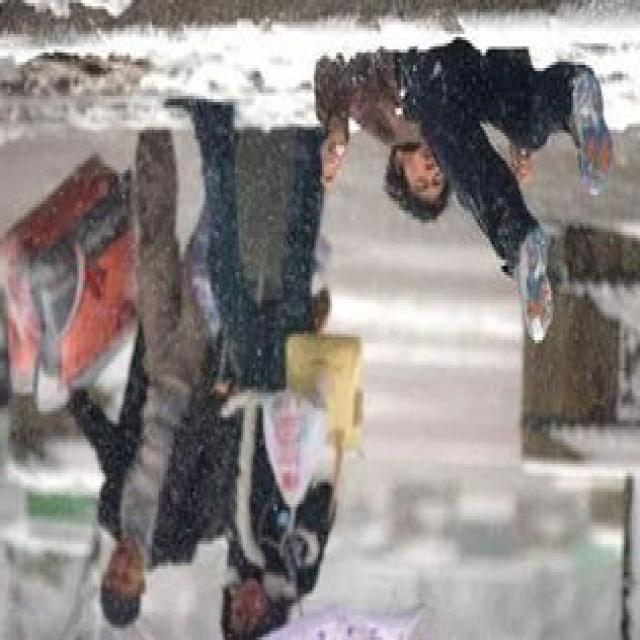nofight: (312, 38, 600, 330), (198, 82, 330, 634), (88, 132, 198, 625)
